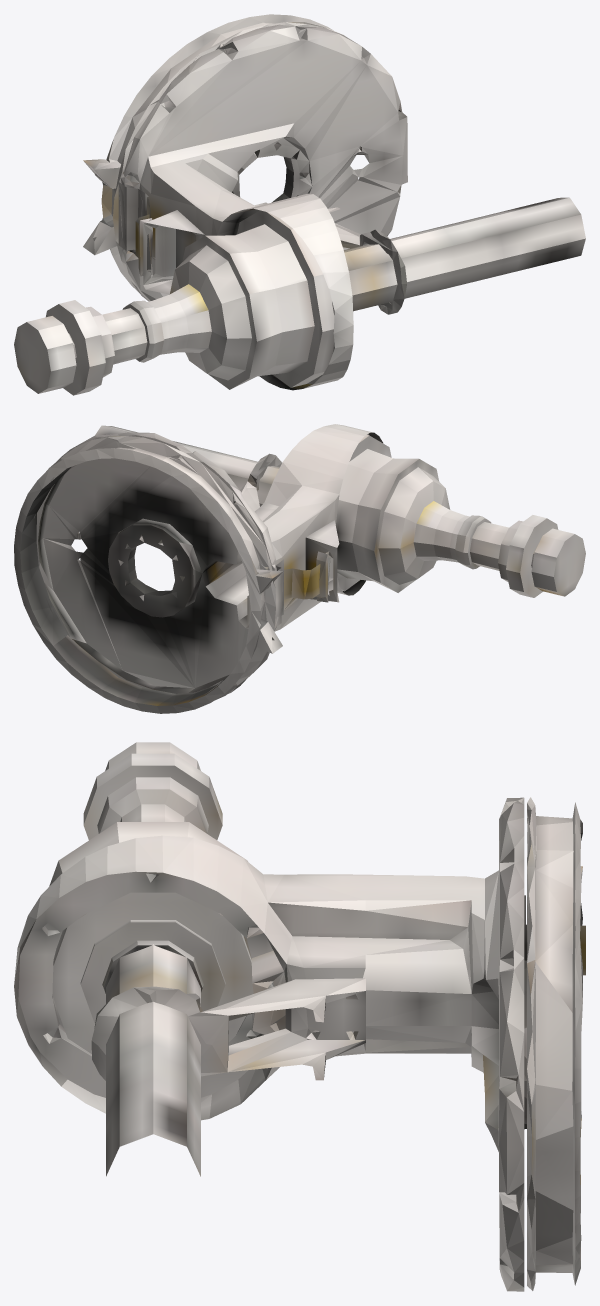
Rendered from HGA_AZ.gltf.
3 renders of one model, top to bottom at view 1: azimuth 30°, elevation 25°; view 2: azimuth 150°, elevation 25°; view 3: azimuth 270°, elevation 25°, orthographic. The views are drawn at different scales.
Parts seen in each view (by area): view 1: Mesh_0; view 2: Mesh_0; view 3: Mesh_0.
Boxes of the visible parts, x1=… form: Mesh_0: x1=14, y1=14, x2=585, y2=395; Mesh_0: x1=14, y1=424, x2=585, y2=713; Mesh_0: x1=14, y1=742, x2=585, y2=1291.
Bounding box in the file's own units: 0.336 × 0.1818 × 0.2094.
1 material, 1 textured.
